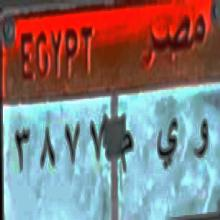3: (13, 121, 31, 179)
7: (64, 118, 83, 169), (88, 115, 106, 168)
8: (40, 123, 57, 180)
meem: (119, 128, 136, 178)
waw: (193, 110, 209, 171)
yaa: (158, 108, 182, 177)
